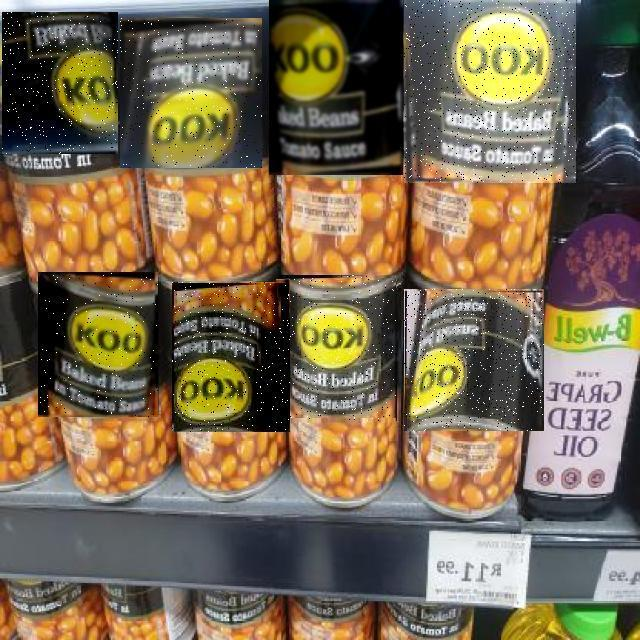Beans: (404, 0, 576, 183), (269, 0, 403, 175), (120, 18, 262, 168), (404, 289, 544, 431), (172, 282, 290, 432), (276, 276, 396, 422), (39, 272, 159, 417), (2, 12, 118, 154)
